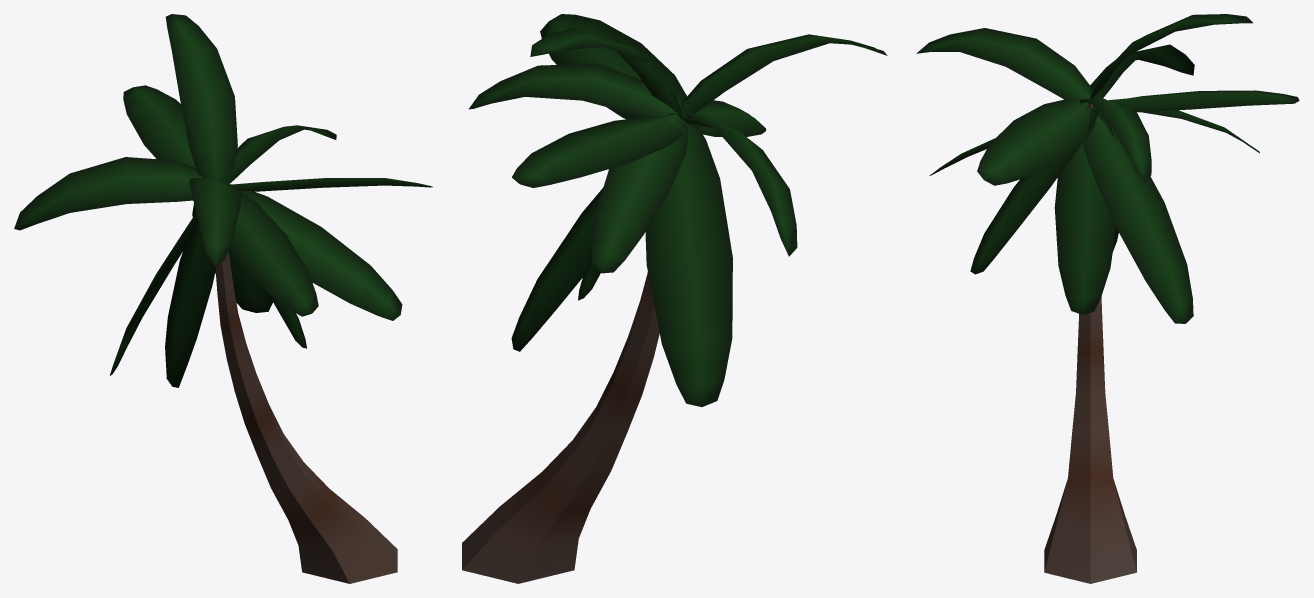
Rendered from Tree_1_v1.fbx.
The picture shows the model from 3 angles, left to right: view 1: azimuth 30°, elevation 25°; view 2: azimuth 150°, elevation 25°; view 3: azimuth 270°, elevation 25°; orthographic projection. The views are drawn at different scales.
Visible parts, largest first — view 1: Tree_1_v1; view 2: Tree_1_v1; view 3: Tree_1_v1.
Boxes of the visible parts, x1,y1,x2,y2 form: Tree_1_v1: (14,14,432,583); Tree_1_v1: (462,14,887,583); Tree_1_v1: (916,14,1299,583).
Size of the model in its own units: 341 by 503 by 352.
